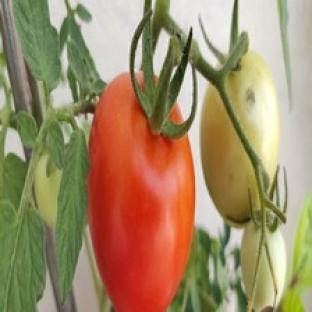Tomato: (88, 74, 194, 311), (201, 85, 259, 227), (254, 229, 286, 310), (34, 154, 61, 228)
